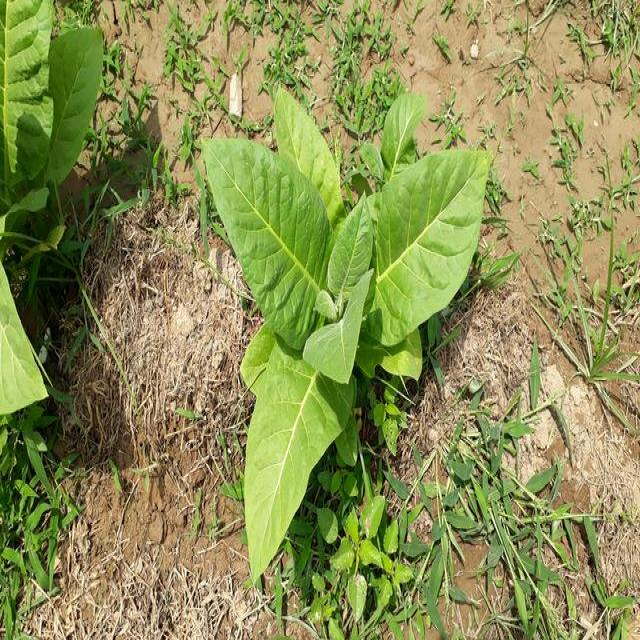crop: (202, 85, 490, 584)
